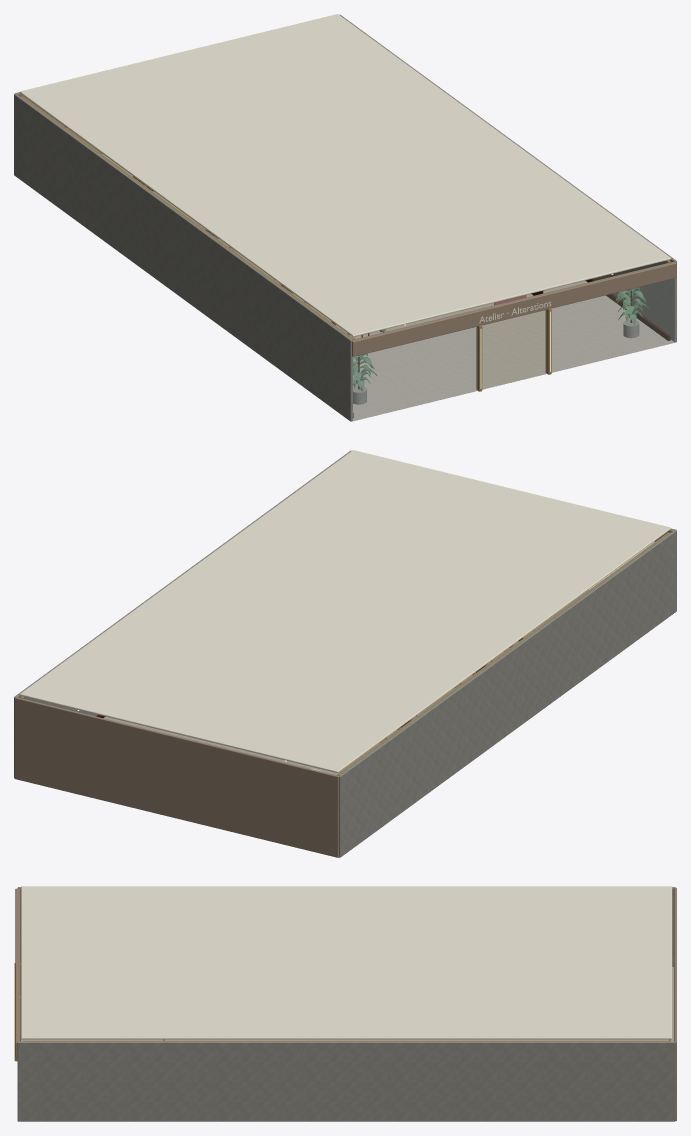
The model's file is alterations.glb.
The picture shows the model from 3 angles, top to bottom: view 1: azimuth 30°, elevation 25°; view 2: azimuth 150°, elevation 25°; view 3: azimuth 270°, elevation 25°; orthographic projection. The views are drawn at different scales.
Parts seen in each view (by area): view 1: Batched AUR-L4-ALTERATIONS::Warm porcelain, Batched AUR-L4-ALTERATIONS::Travertine, Batched AUR-L4-ALTERATIONS::Cream marble, Batched AUR-L4-ALTERATIONS::Tenant glass, Batched AUR-L4-ALTERATIONS::Tenant alterations, Batched AUR-L4-ALTERATIONS::Bronze, Batched AUR-L4-ALTERATIONS::Foliage; view 2: Batched AUR-L4-ALTERATIONS::Warm porcelain, Batched AUR-L4-ALTERATIONS::Travertine, Batched AUR-L4-ALTERATIONS::Tenant alterations, Batched AUR-L4-ALTERATIONS::Bronze, Batched AUR-L4-ALTERATIONS::Cream marble; view 3: Batched AUR-L4-ALTERATIONS::Warm porcelain, Batched AUR-L4-ALTERATIONS::Travertine, Batched AUR-L4-ALTERATIONS::Cream marble, Batched AUR-L4-ALTERATIONS::Tenant alterations, Batched AUR-L4-ALTERATIONS::Bronze.
Boxes of the visible parts, x1,y1,x2,y2 form: Batched AUR-L4-ALTERATIONS::Warm porcelain: (19, 14, 671, 336); Batched AUR-L4-ALTERATIONS::Travertine: (14, 14, 676, 421); Batched AUR-L4-ALTERATIONS::Cream marble: (102, 154, 675, 421); Batched AUR-L4-ALTERATIONS::Tenant glass: (67, 128, 675, 421); Batched AUR-L4-ALTERATIONS::Tenant alterations: (14, 92, 676, 356); Batched AUR-L4-ALTERATIONS::Bronze: (21, 96, 670, 391); Batched AUR-L4-ALTERATIONS::Foliage: (353, 287, 649, 391); Batched AUR-L4-ALTERATIONS::Warm porcelain: (19, 450, 671, 772); Batched AUR-L4-ALTERATIONS::Travertine: (14, 450, 676, 857); Batched AUR-L4-ALTERATIONS::Tenant alterations: (14, 528, 676, 857); Batched AUR-L4-ALTERATIONS::Bronze: (20, 532, 669, 775); Batched AUR-L4-ALTERATIONS::Cream marble: (103, 589, 589, 775); Batched AUR-L4-ALTERATIONS::Warm porcelain: (21, 886, 672, 1039); Batched AUR-L4-ALTERATIONS::Travertine: (17, 887, 675, 1121); Batched AUR-L4-ALTERATIONS::Cream marble: (21, 967, 673, 1041); Batched AUR-L4-ALTERATIONS::Tenant alterations: (15, 887, 676, 1120); Batched AUR-L4-ALTERATIONS::Bronze: (14, 963, 670, 1061).
Bounding box in the file's own units: 20.16 × 4.97 × 36.29.
12 materials, 4 textured.
